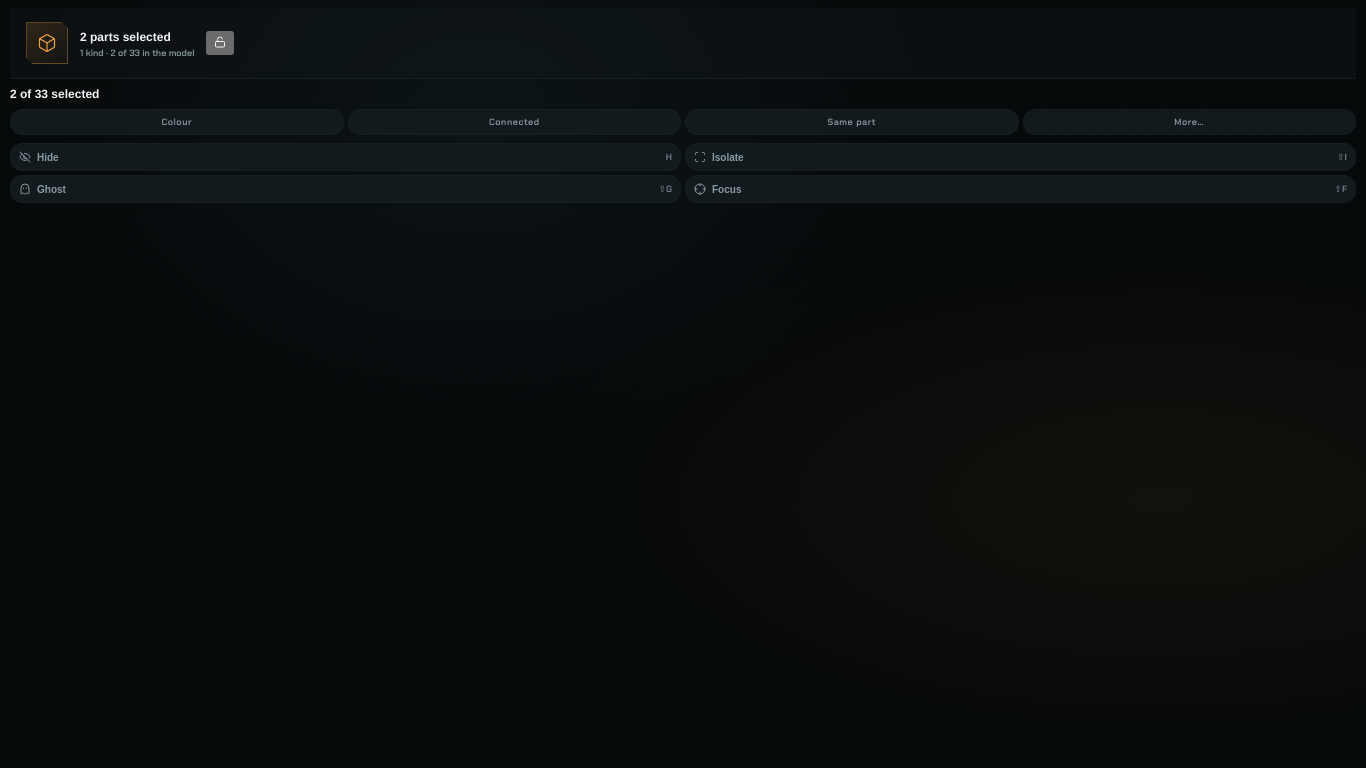
Test: selection modes › reports how much of a stale set survives
The image size is (1366, 768).
Click the button "More…". click: (1189, 122)
box: x1=1022 y1=109 x2=1356 y2=135
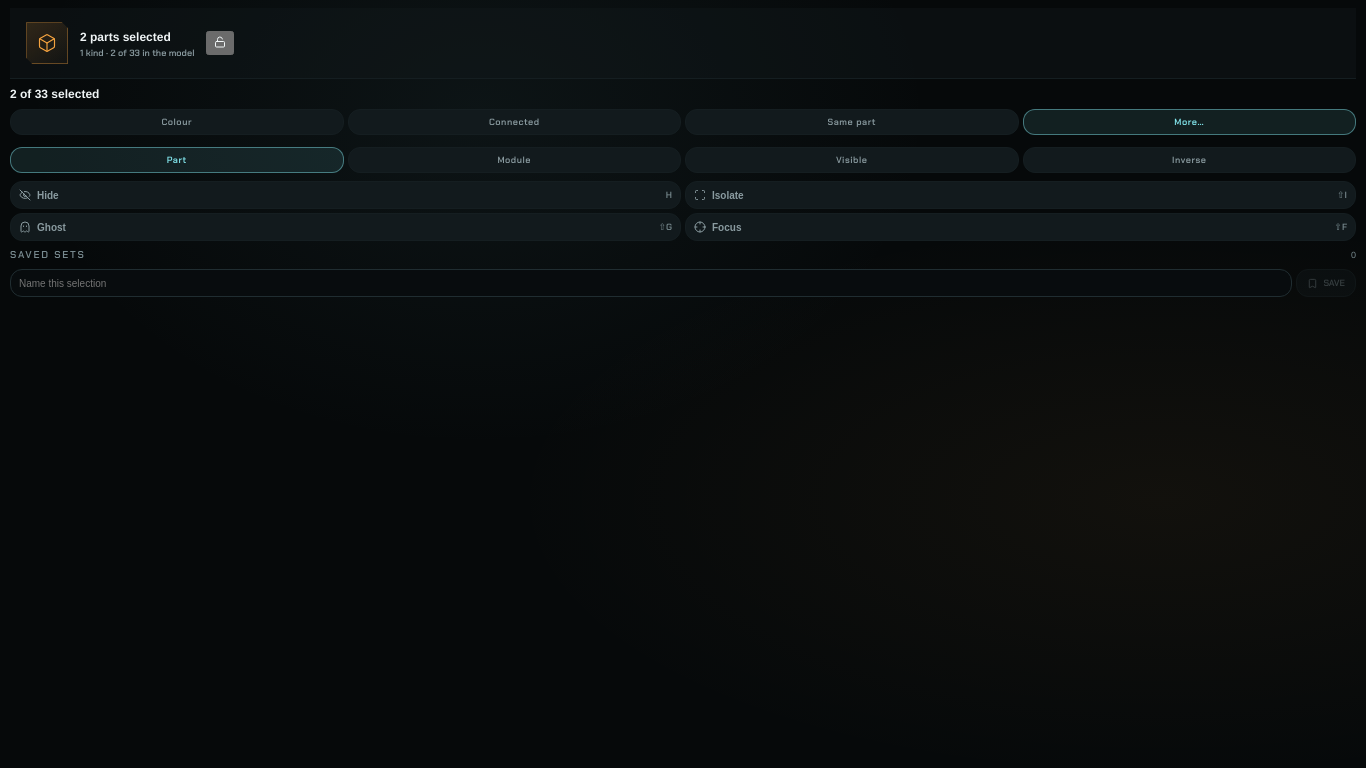
Type "Doomed" into the field named "Selection set name". click: (651, 283)
box: x1=10 y1=269 x2=1292 y2=297
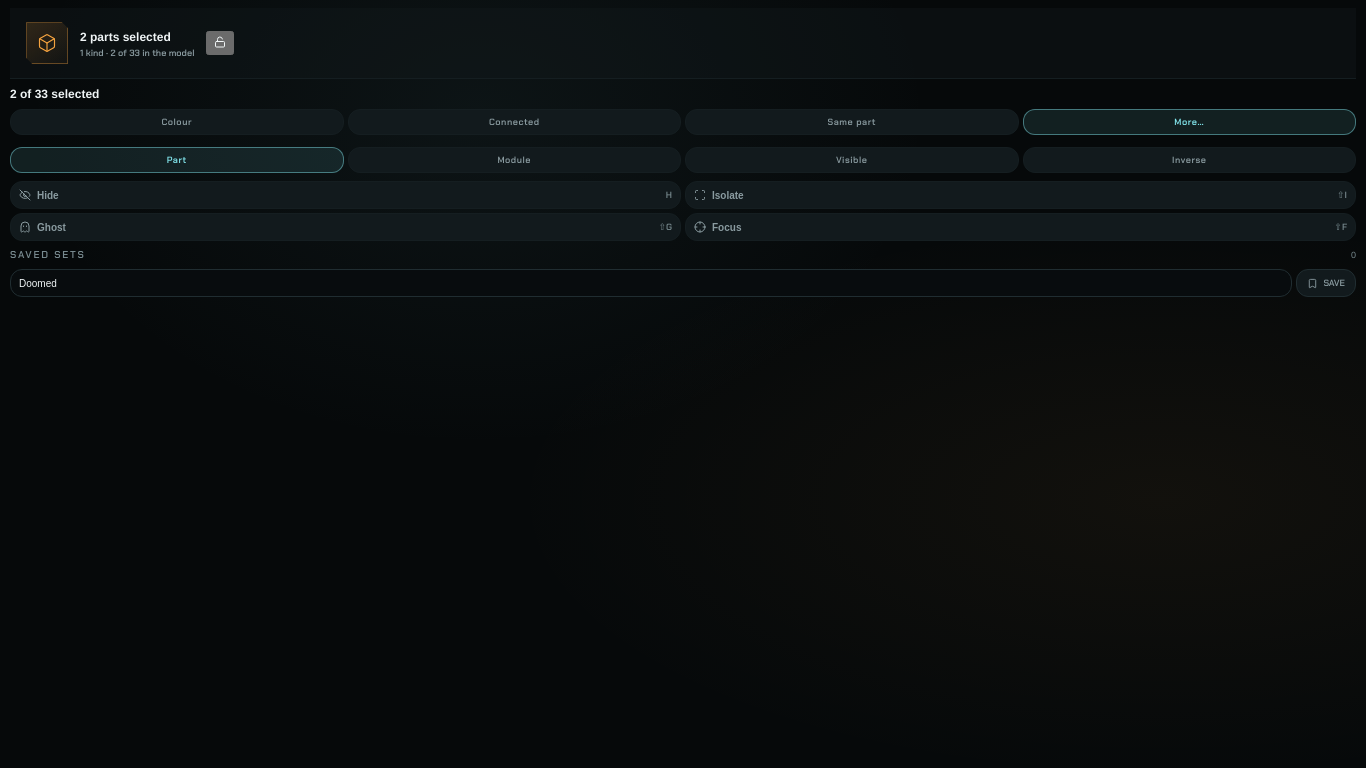
Click the button "SAVE". click: (1326, 283)
box: x1=1296 y1=269 x2=1356 y2=297
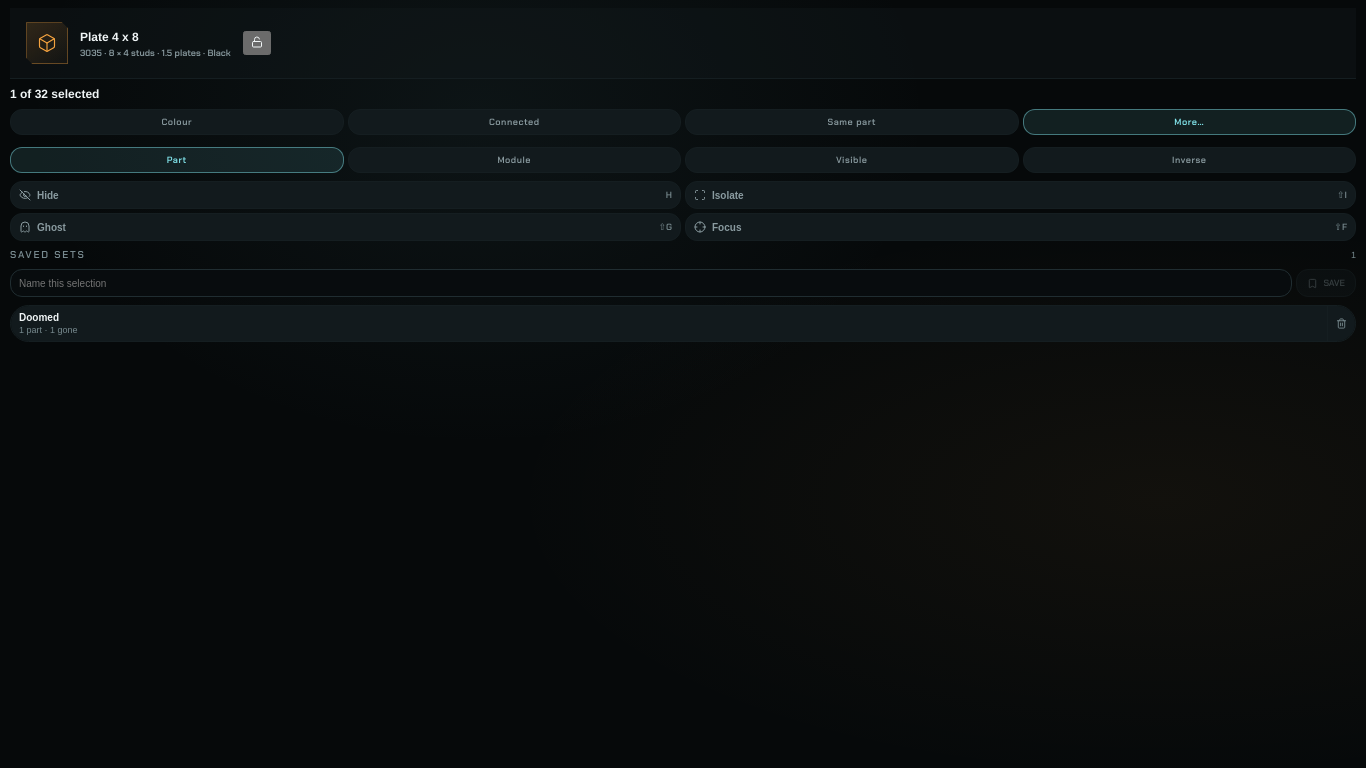
Expected: the text "1 part · 1 gone" is shown, x1=19 y1=325 x2=78 y2=335
